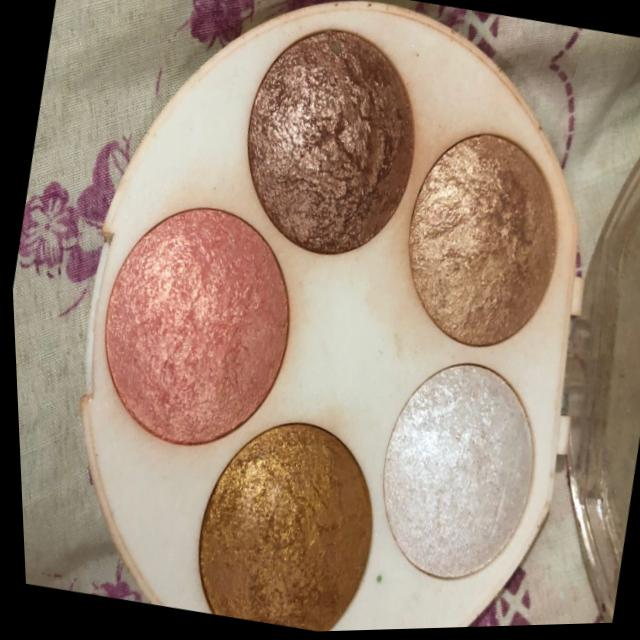highlighter: (72, 191, 310, 459), (377, 110, 578, 361), (229, 18, 433, 258), (180, 408, 392, 636), (358, 356, 551, 583)
